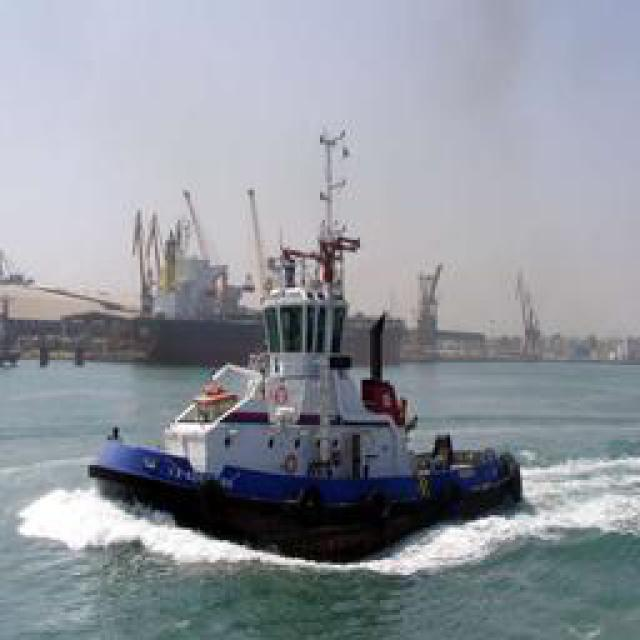Ship: (98, 142, 523, 568)
